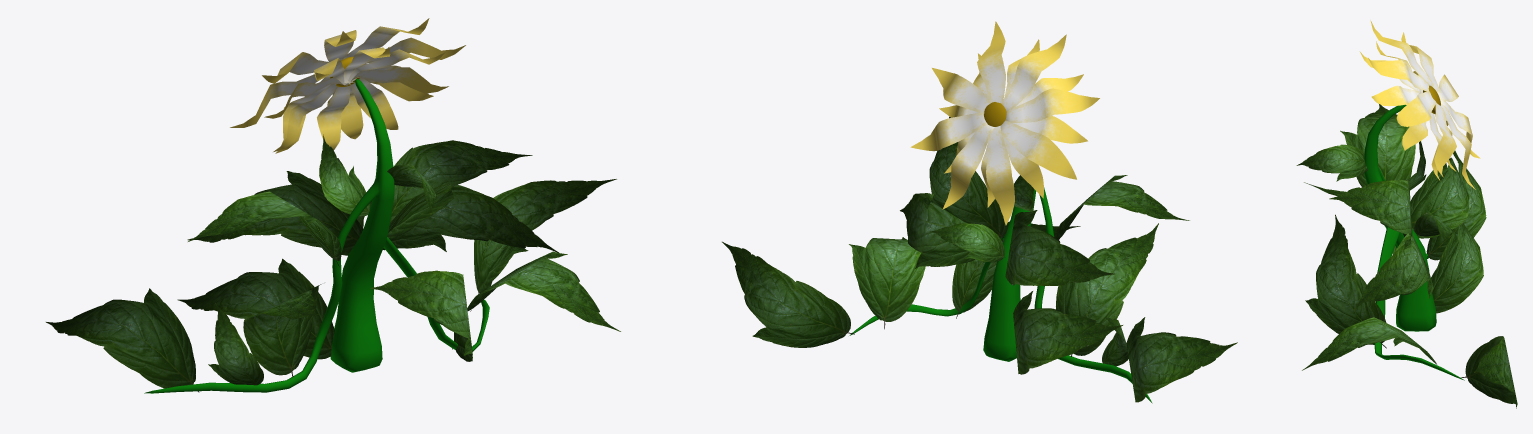
The model's file is Flower_V2.fbx.
3 renders of one model, left to right at view 1: azimuth 30°, elevation 25°; view 2: azimuth 150°, elevation 25°; view 3: azimuth 270°, elevation 25°, orthographic. The views are drawn at different scales.
Parts seen in each view (by area): view 1: pCube2; view 2: pCube2; view 3: pCube2.
Boxes of the visible parts, <box> form: pCube2: <box>46,18,620,393</box>; pCube2: <box>722,21,1237,403</box>; pCube2: <box>1296,20,1517,408</box>.
Size of the model in its own units: 7.67 by 4.63 by 3.1.
Materials: 4 (2 with a texture image).
